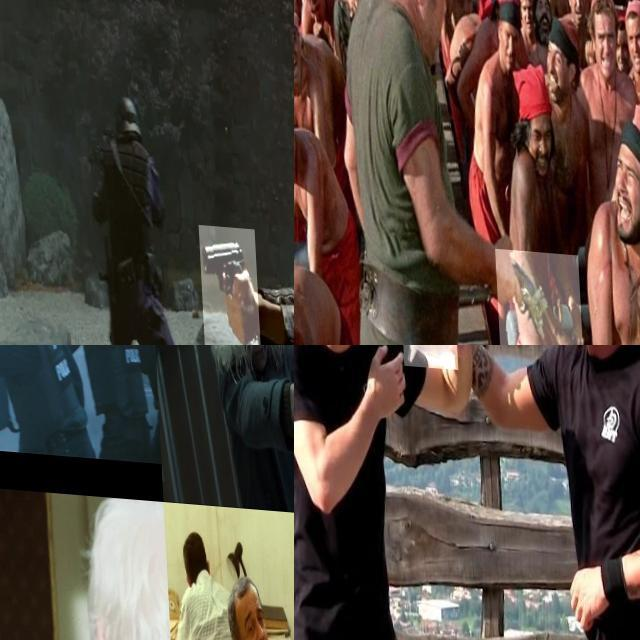-: (395, 345, 455, 421)
gun-knife-thesis - v11 Yolov5 augmented: (491, 244, 580, 345), (195, 221, 256, 345), (0, 345, 15, 358)
